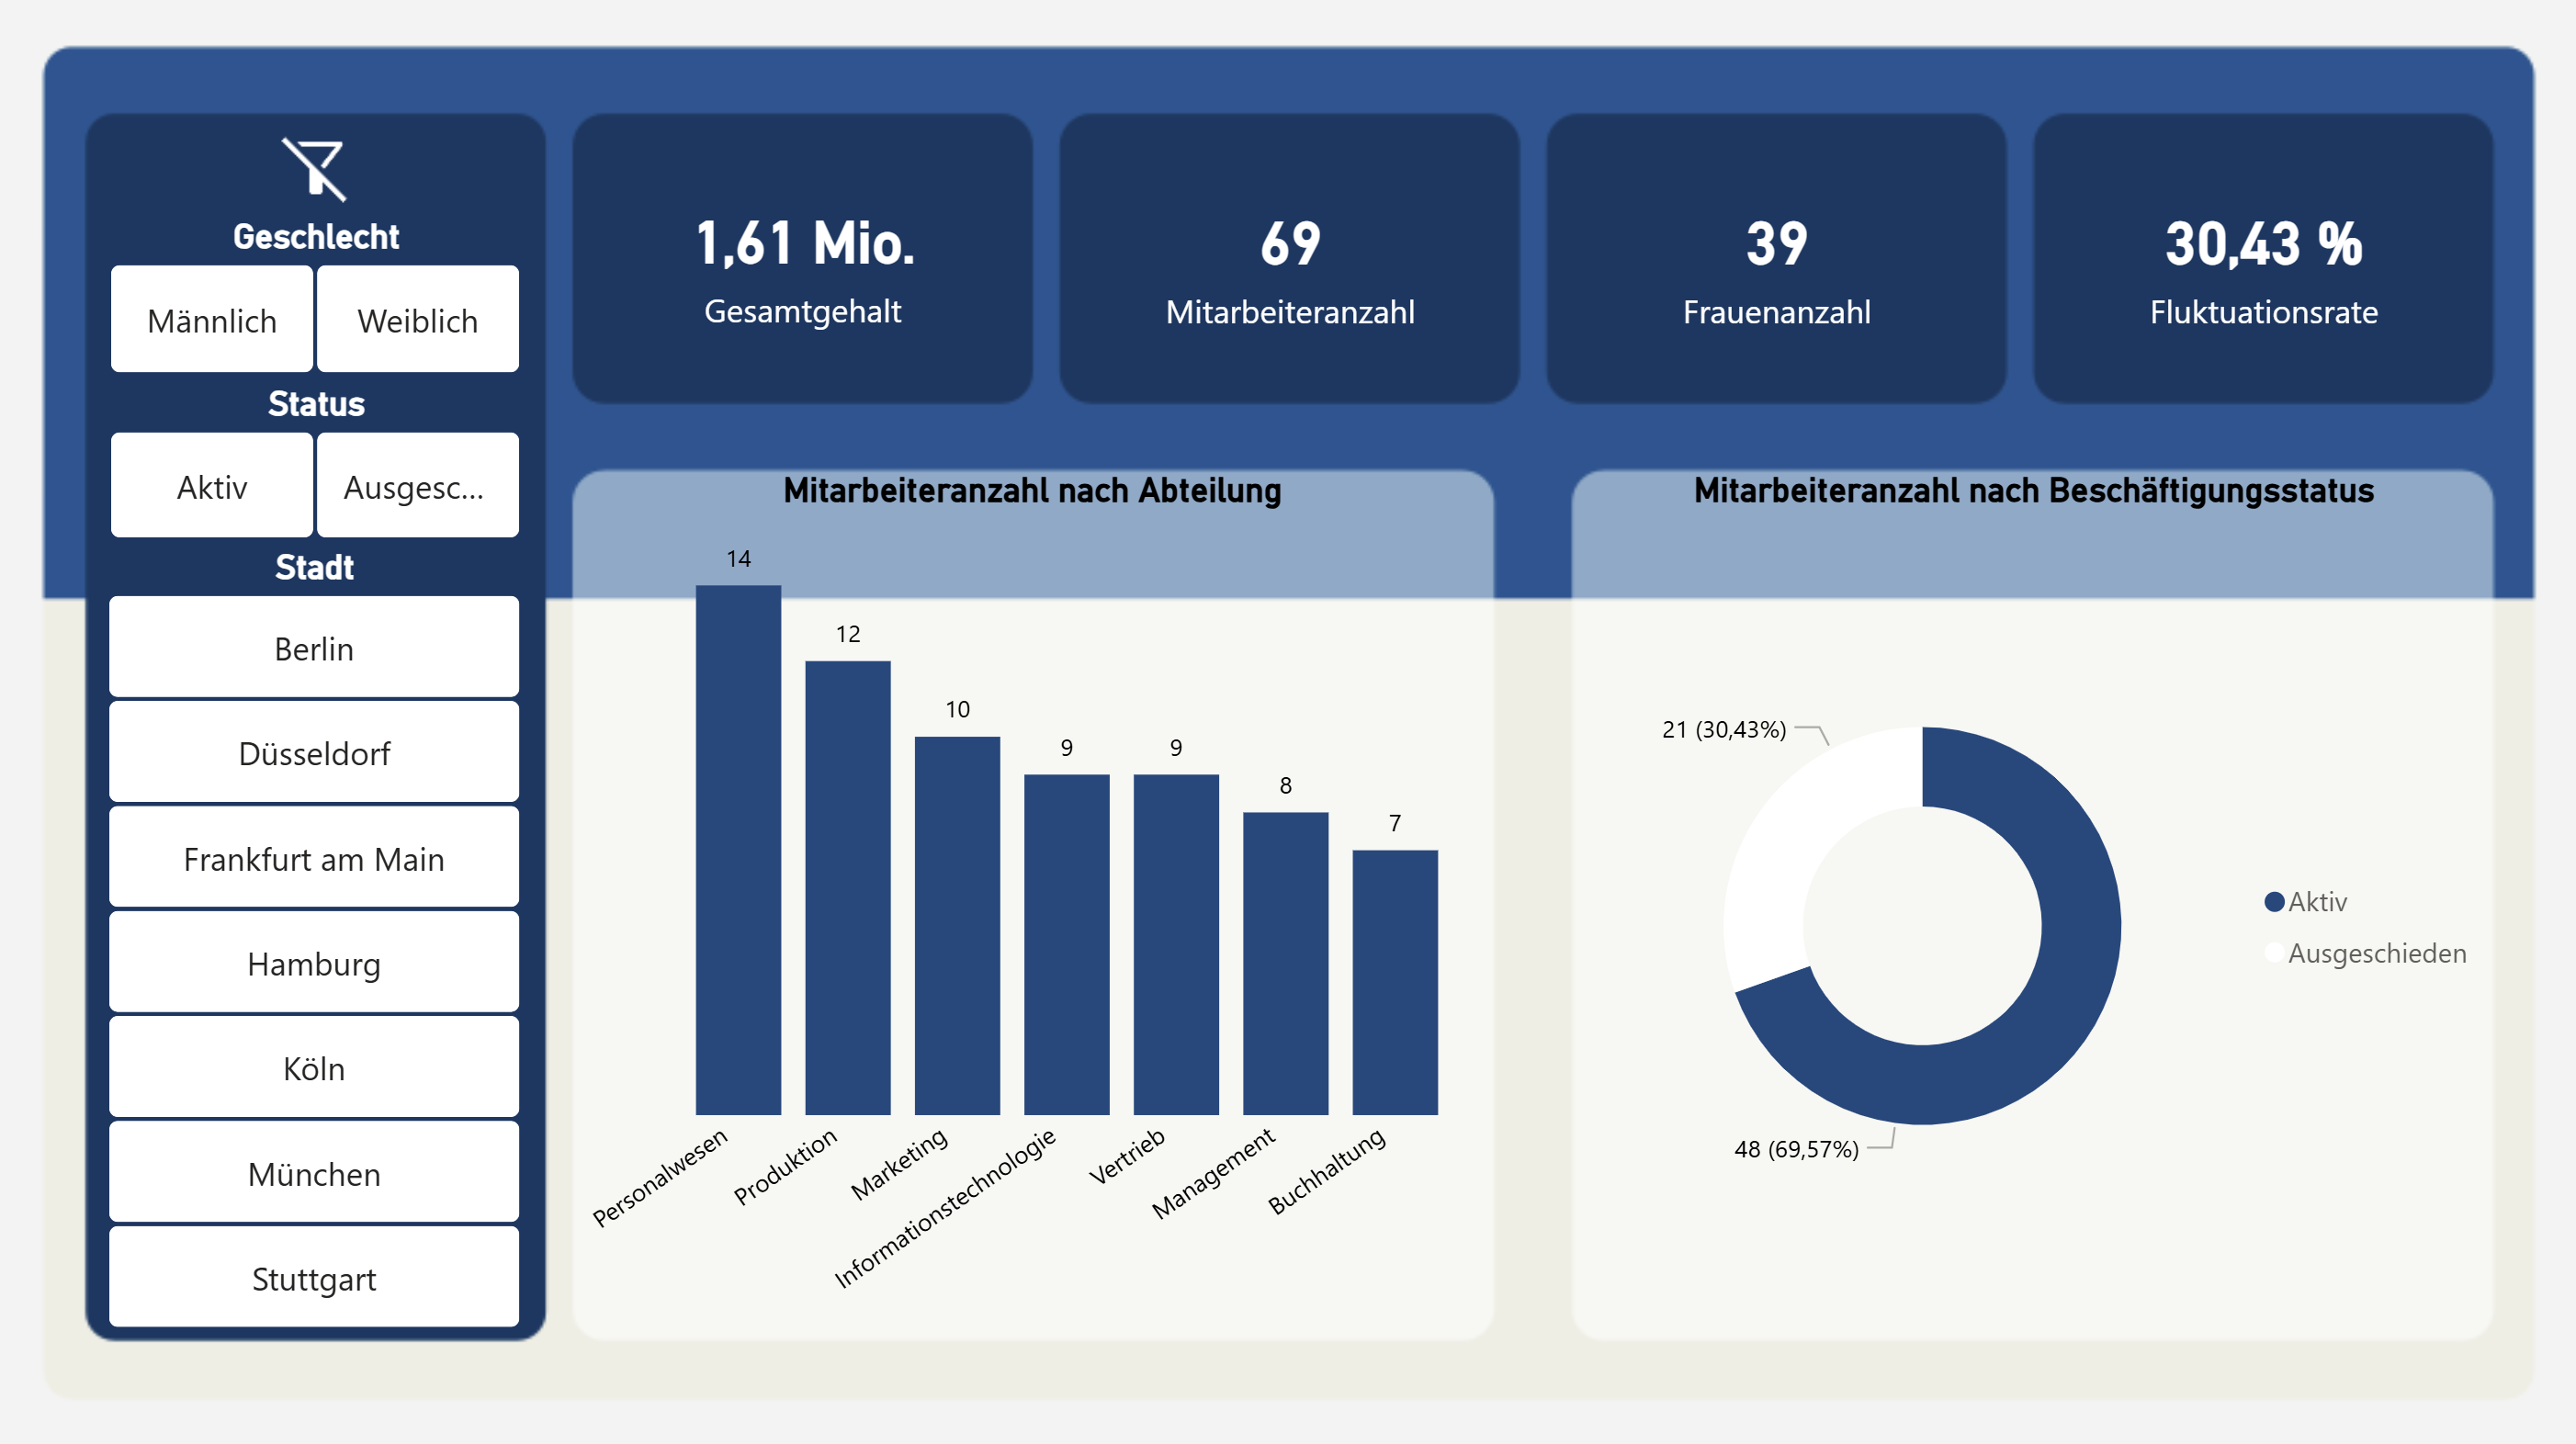

The page's visual inventory and layout, read from the dashboard file:
{"tool":"powerbi","page":{"name":"Seite 1","canvas":[1280,720],"ordinal":0},"visuals":[{"type":"card","fields":{"Values":["_calc.Gesamtgehalt"]},"box":[284.7,58.2,229.4,145.3],"z":0},{"type":"card","fields":{"Values":["_calc.Mitarbeiteranzahl"]},"box":[525.6,57.8,230,145.6],"z":1000},{"type":"card","fields":{"Values":["_calc.Frauenanzahl"]},"box":[766.7,57.8,230,145.6],"z":2000},{"type":"card","fields":{"Values":["_calc.Fluktuationsrate"]},"box":[1007.8,57.8,230,145.6],"z":3000},{"type":"columnChart","title":"Mitarbeiteranzahl nach Abteilung","fields":{"Category":["Table_1.BIRIM_DE"],"Y":["_calc.Mitarbeiteranzahl"]},"box":[284.6,234.6,456.9,432.3],"z":4000},{"type":"donutChart","title":"Mitarbeiteranzahl nach Beschäftigungsstatus","fields":{"Category":["Table_1.STATUS_DE"],"Y":["_calc.Mitarbeiteranzahl"]},"box":[780.3,234.3,457.3,432.2],"z":5000},{"type":"advancedSlicerVisual","title":"Geschlecht","fields":{"Values":["Table_1.Geschlecht_DE"]},"box":[51.4,109.1,213.7,82.5],"z":6000},{"type":"advancedSlicerVisual","title":"Status","fields":{"Values":["Table_1.STATUS_DE"]},"box":[51.4,191.5,213.7,81.6],"z":7000},{"type":"advancedSlicerVisual","title":"Stadt","fields":{"Values":["Table_1.Stadt"]},"box":[51.2,273,213.8,394.7],"z":8000},{"type":"image","box":[128.6,65.6,60.3,39],"z":9000}]}

Visuals, with their boxes in screenshot pixels (x1, y1, x2, y2), scaled from the page's 1280x720 canvas onto the 2576x1444 screenshot:
card - _calc.Gesamtgehalt: bbox=(573, 117, 1034, 408)
card - _calc.Mitarbeiteranzahl: bbox=(1057, 116, 1520, 408)
card - _calc.Frauenanzahl: bbox=(1543, 116, 2005, 408)
card - _calc.Fluktuationsrate: bbox=(2028, 116, 2491, 408)
"Mitarbeiteranzahl nach Abteilung" columnChart: bbox=(572, 470, 1492, 1337)
"Mitarbeiteranzahl nach Beschäftigungsstatus" donutChart: bbox=(1570, 470, 2491, 1337)
"Geschlecht" advancedSlicerVisual: bbox=(104, 219, 534, 384)
"Status" advancedSlicerVisual: bbox=(104, 384, 534, 547)
"Stadt" advancedSlicerVisual: bbox=(103, 547, 534, 1339)
image: bbox=(259, 131, 380, 209)
